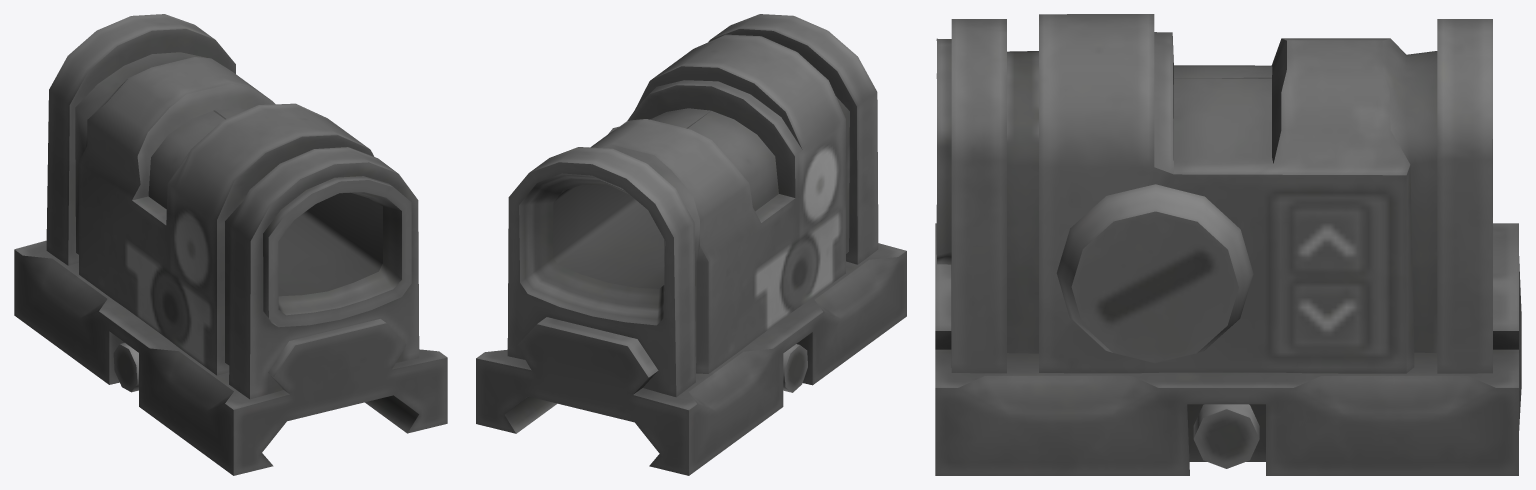
File: IG_Acc_Scope_All_Digit_1.fbx
3 renders of one model, left to right at view 1: azimuth 30°, elevation 25°; view 2: azimuth 150°, elevation 25°; view 3: azimuth 270°, elevation 25°, orthographic. The views are drawn at different scales.
Visible parts, largest first — view 1: Scope_All_Digit_1; view 2: Scope_All_Digit_1; view 3: Scope_All_Digit_1.
Part boxes in pixels (x1,y1,x2,y2): Scope_All_Digit_1: (14, 14, 447, 475); Scope_All_Digit_1: (476, 14, 906, 475); Scope_All_Digit_1: (935, 14, 1521, 475).
Size of the model in its own units: 0.0853 by 0.1084 by 0.152.
